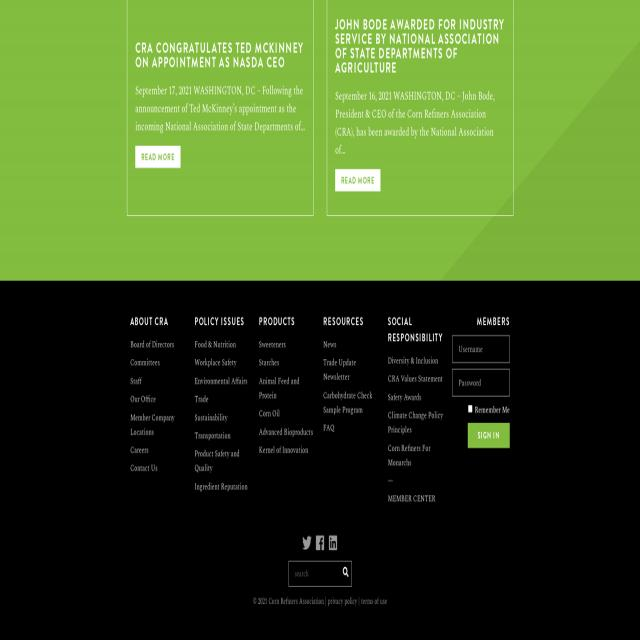button: (468, 422, 510, 448), (136, 145, 180, 167), (336, 169, 380, 190), (301, 534, 313, 551), (314, 534, 326, 551), (327, 534, 339, 551), (343, 567, 348, 577)
field: (288, 561, 352, 587), (452, 335, 510, 363), (452, 368, 510, 396), (468, 404, 473, 412)
